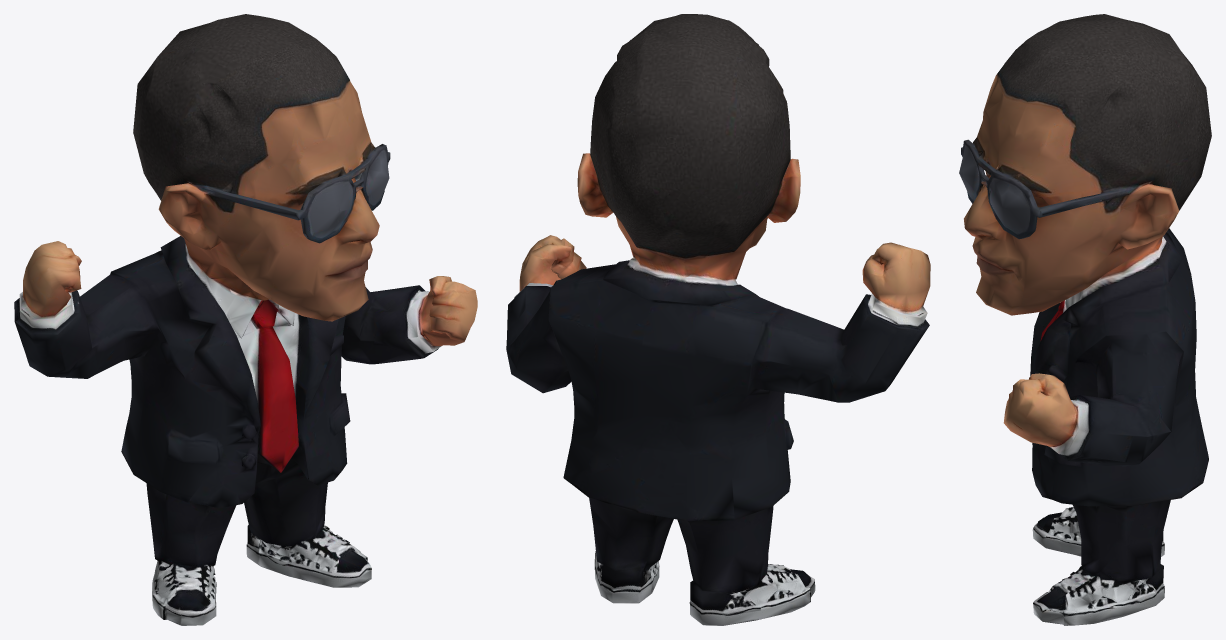
The model's file is obama-statue.glb.
The picture shows the model from 3 angles, left to right: view 1: azimuth 30°, elevation 25°; view 2: azimuth 150°, elevation 25°; view 3: azimuth 270°, elevation 25°; orthographic projection.
Parts seen in each view (by area): view 1: tripo_node_6fb1196c-2395-4f52-b5e5-3f893247d56a; view 2: tripo_node_6fb1196c-2395-4f52-b5e5-3f893247d56a; view 3: tripo_node_6fb1196c-2395-4f52-b5e5-3f893247d56a.
Part boxes in pixels (box(x1,y1,x2,y2)): tripo_node_6fb1196c-2395-4f52-b5e5-3f893247d56a: box(14, 14, 477, 625); tripo_node_6fb1196c-2395-4f52-b5e5-3f893247d56a: box(506, 14, 930, 625); tripo_node_6fb1196c-2395-4f52-b5e5-3f893247d56a: box(959, 14, 1211, 625).
Size of the model in its own units: 0.7829 by 0.9798 by 0.4074.
1 material, 1 textured.
